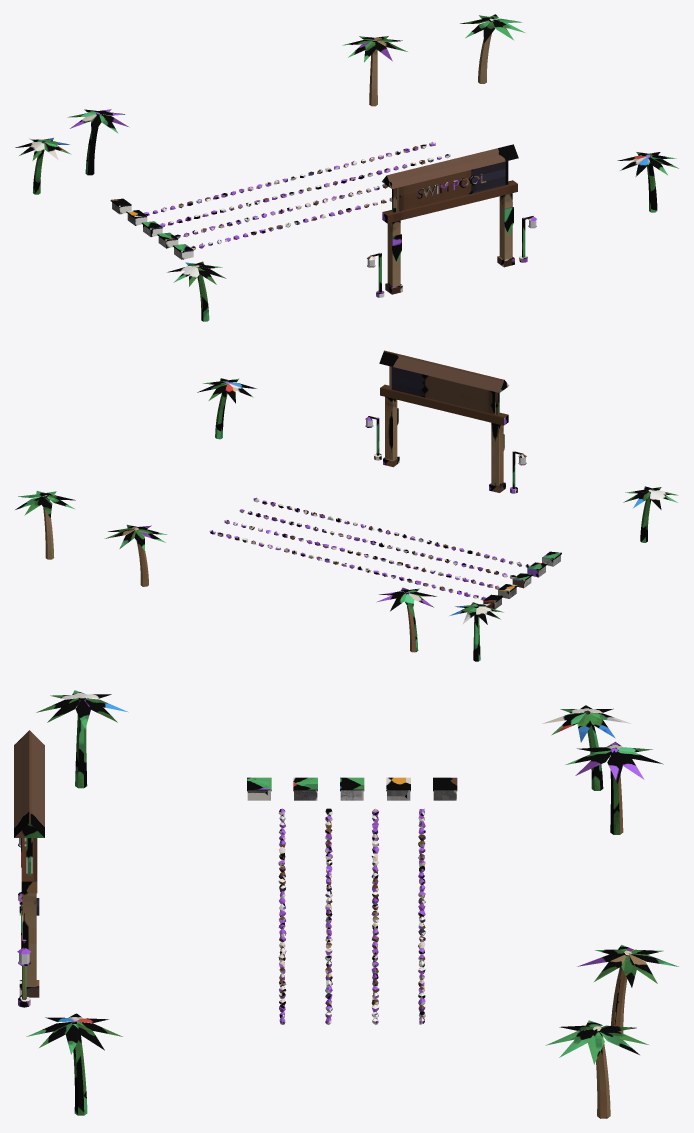
Rendered from area_pool_2_5.fbx.
The picture shows the model from 3 angles, top to bottom: view 1: azimuth 30°, elevation 25°; view 2: azimuth 150°, elevation 25°; view 3: azimuth 270°, elevation 25°; orthographic projection. The views are drawn at different scales.
Visible parts, largest first — view 1: area_pool_2_5_body; view 2: area_pool_2_5_body; view 3: area_pool_2_5_body.
Part boxes in pixels (x1=…): area_pool_2_5_body: x1=15, y1=14, x2=678, y2=321; area_pool_2_5_body: x1=15, y1=350, x2=678, y2=661; area_pool_2_5_body: x1=14, y1=690, x2=678, y2=1118.
Bounding box in the file's own units: 17572 × 3766 × 12899.
Materials: 2 (1 with a texture image).
